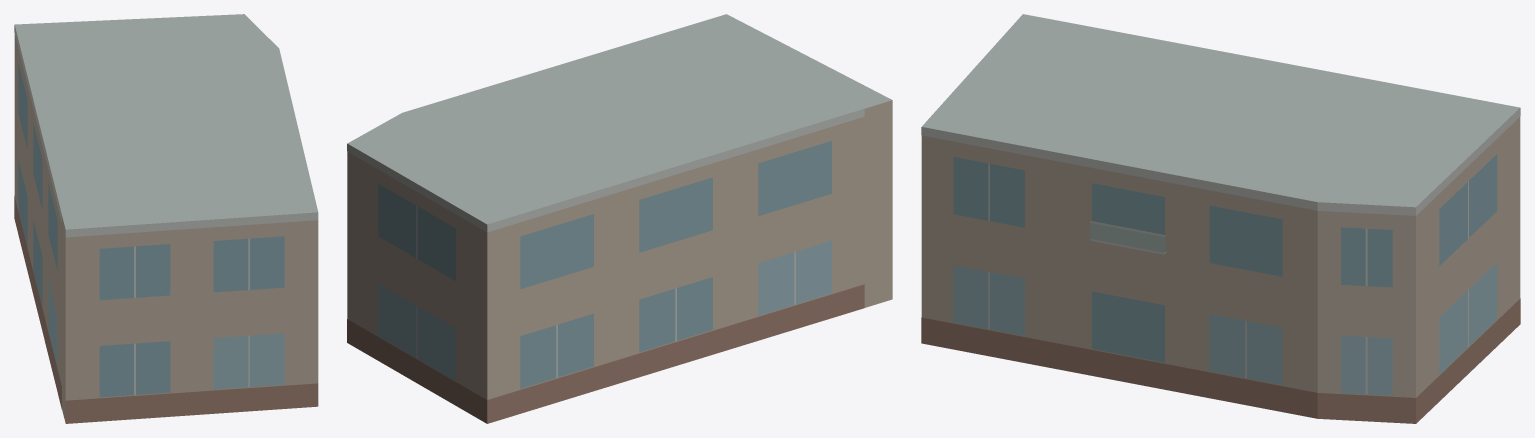
Rendered from survey-upis-32836801.glb.
The picture shows the model from 3 angles, left to right: view 1: azimuth 30°, elevation 25°; view 2: azimuth 150°, elevation 25°; view 3: azimuth 270°, elevation 25°; orthographic projection. The views are drawn at different scales.
Parts seen in each view (by area): view 1: survey-upis-32836801.tmp; view 2: survey-upis-32836801.tmp; view 3: survey-upis-32836801.tmp.
Boxes of the visible parts, <box> form: survey-upis-32836801.tmp: <box>14,14,318,423</box>; survey-upis-32836801.tmp: <box>347,14,892,423</box>; survey-upis-32836801.tmp: <box>921,14,1520,423</box>.
Bounding box in the file's own units: 11.68 × 6.1 × 15.3.
